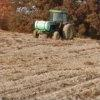Tractor: (25, 7, 81, 47)
